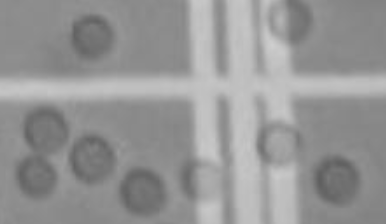cell: (58, 126, 122, 192), (114, 160, 172, 224), (306, 148, 366, 208), (250, 113, 308, 173), (18, 100, 73, 163), (64, 9, 120, 65), (259, 1, 319, 50), (177, 153, 228, 207), (12, 150, 64, 202)
